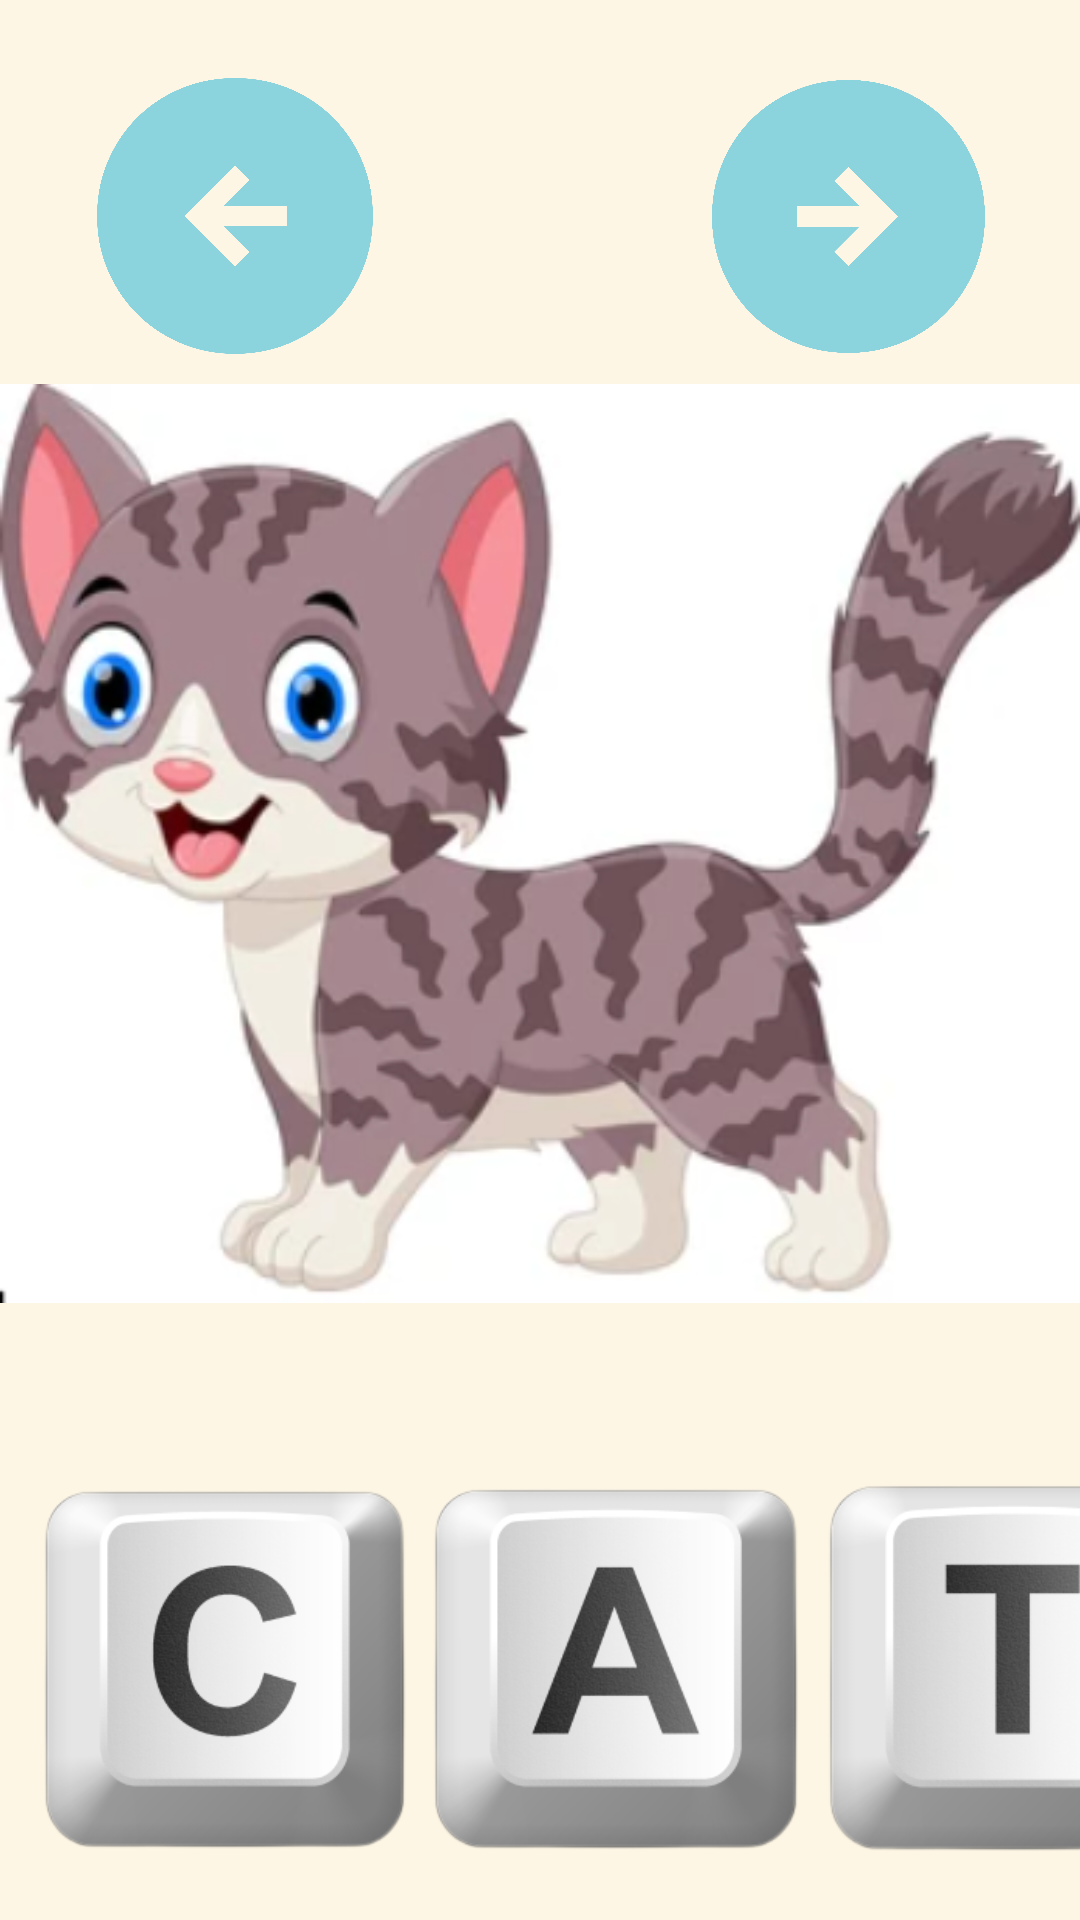

Where to tap for icons on this 1080px x 1920px app screen, as (x=x, y=y):
back: (x=235, y=216)
next: (x=848, y=216)
